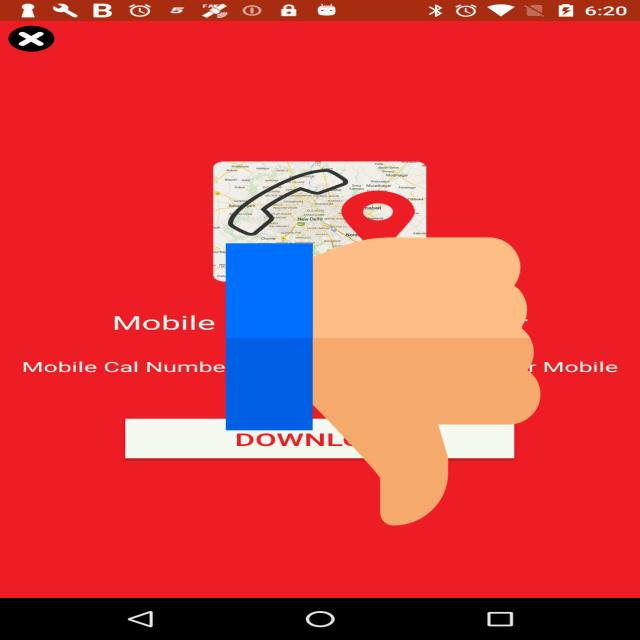obstruction: (226, 230, 540, 533)
